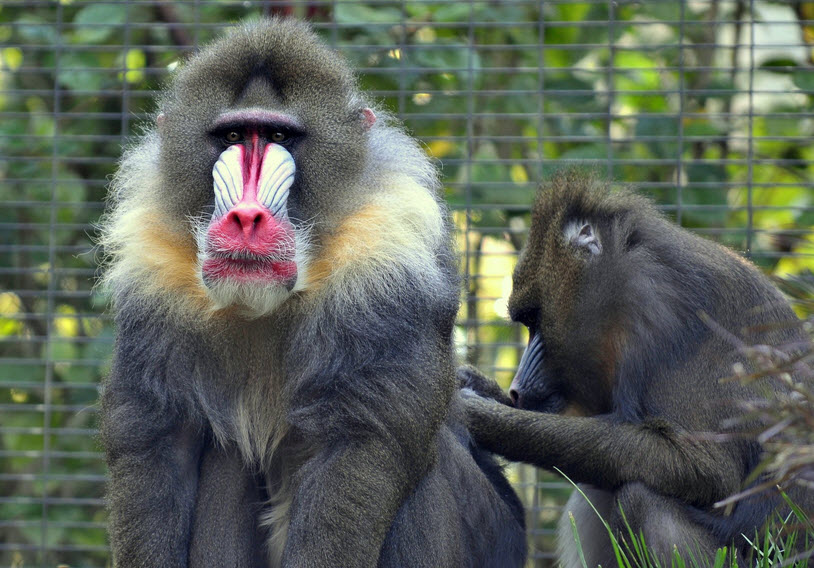Mandrill: (81, 21, 507, 556), (480, 163, 808, 545)
